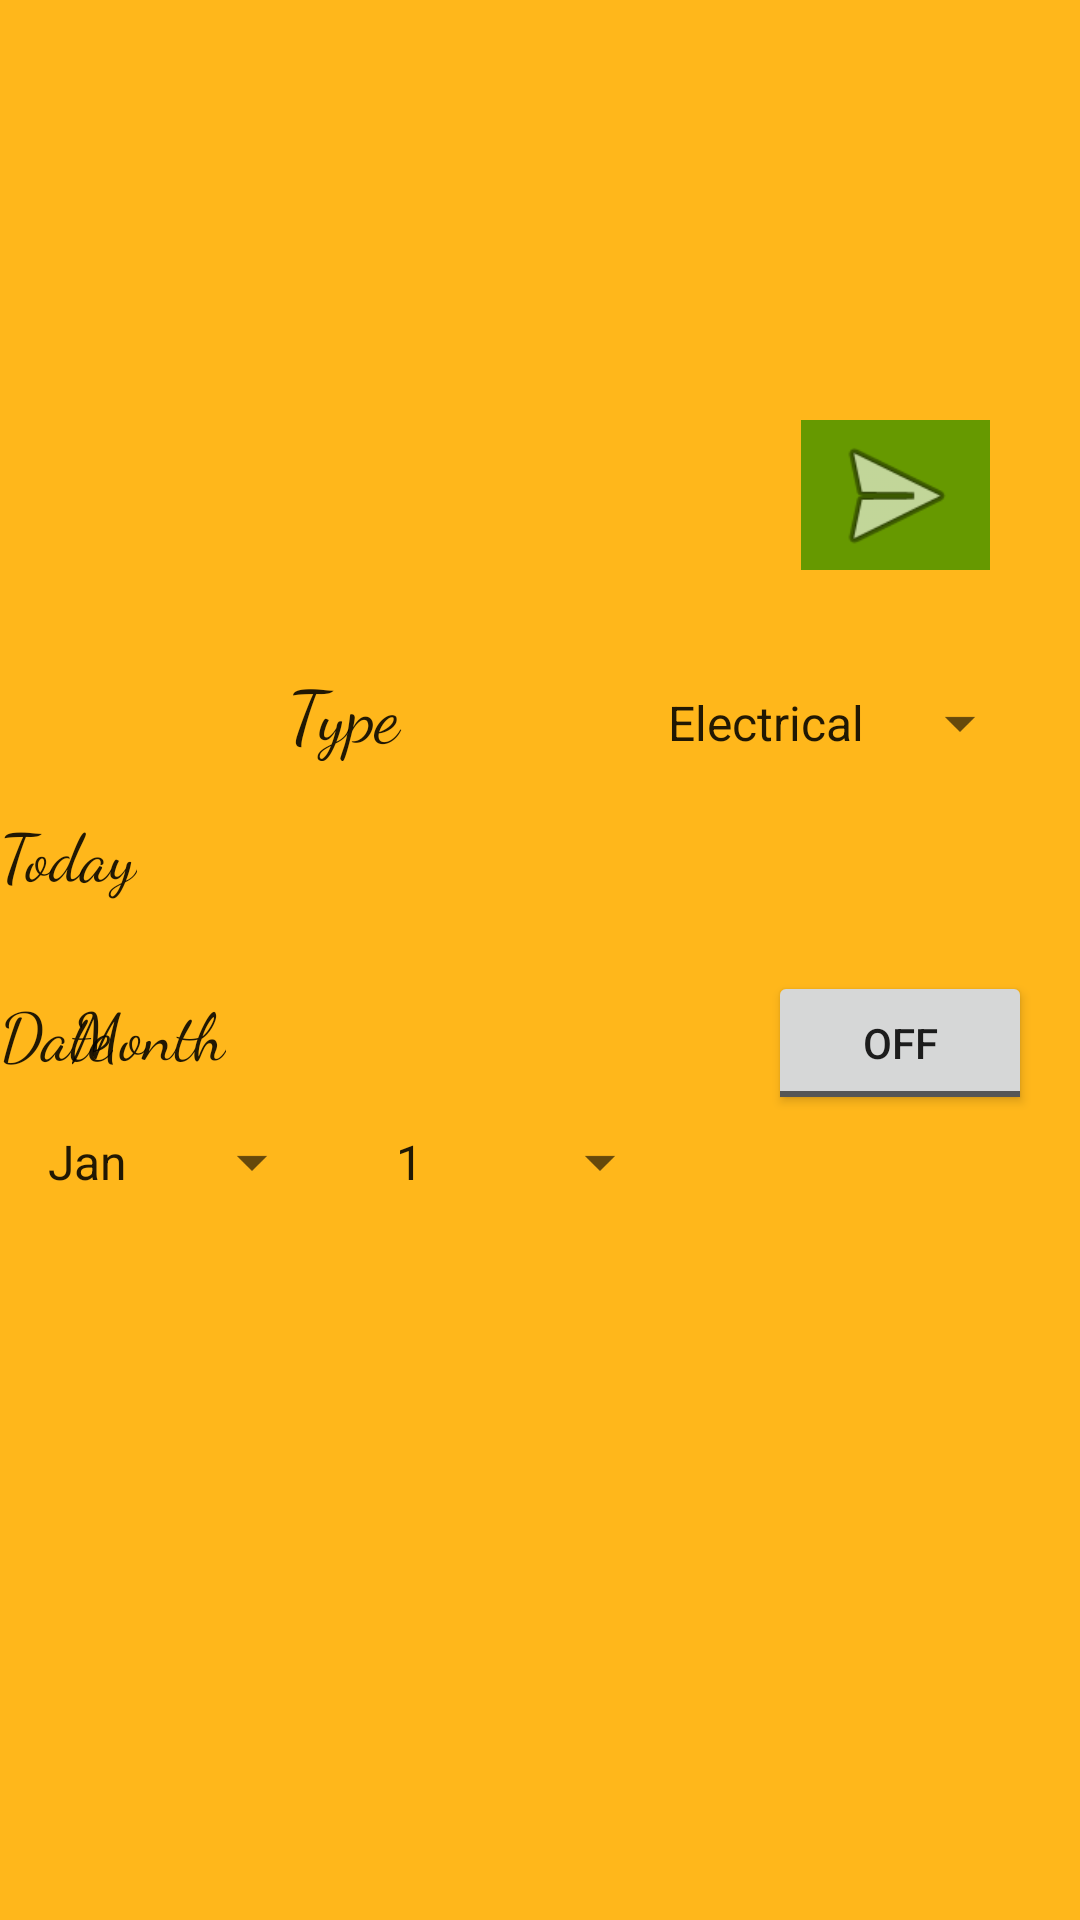

Where to tap for icons on this 1080 × 1920 app screen, as [x,y]:
send: [895,495]
